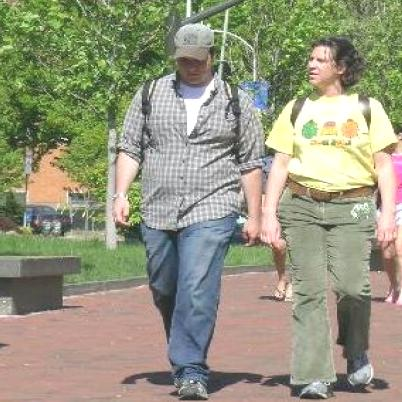ped: (117, 23, 266, 397), (263, 38, 400, 399)
